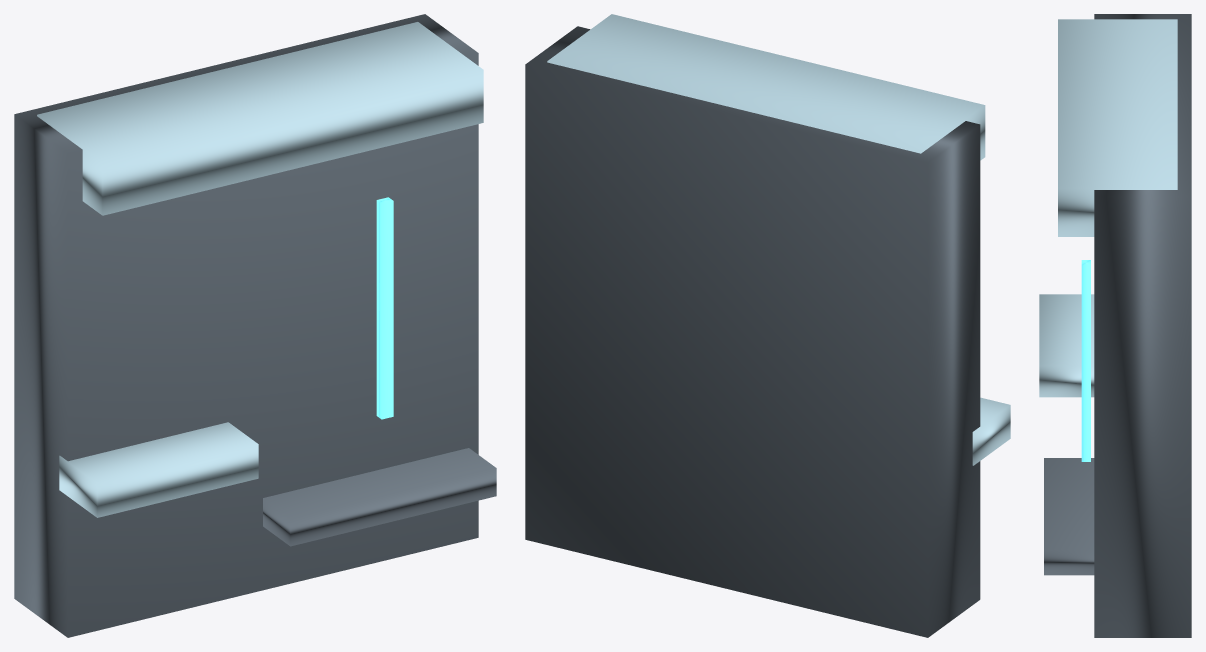
The model's file is ice-mine-frost-wall-lod1.glb.
The picture shows the model from 3 angles, left to right: view 1: azimuth 30°, elevation 25°; view 2: azimuth 150°, elevation 25°; view 3: azimuth 270°, elevation 25°; orthographic projection. The views are drawn at different scales.
Parts seen in each view (by area): view 1: ice-mine-frost-wall-rock, ice-mine-frost-wall-cap, ice-mine-frost-wall-strata, ice-mine-frost-wall-ledge, ice-mine-frost-wall-seam; view 2: ice-mine-frost-wall-rock, ice-mine-frost-wall-cap, ice-mine-frost-wall-ledge; view 3: ice-mine-frost-wall-rock, ice-mine-frost-wall-cap, ice-mine-frost-wall-strata, ice-mine-frost-wall-ledge, ice-mine-frost-wall-seam.
Boxes of the visible parts, box(x1,y1,x2,y2) form: ice-mine-frost-wall-rock: box(14, 14, 478, 637); ice-mine-frost-wall-cap: box(37, 22, 483, 215); ice-mine-frost-wall-strata: box(263, 448, 496, 546); ice-mine-frost-wall-ledge: box(59, 422, 258, 517); ice-mine-frost-wall-seam: box(376, 197, 393, 419); ice-mine-frost-wall-rock: box(525, 26, 980, 637); ice-mine-frost-wall-cap: box(547, 14, 985, 160); ice-mine-frost-wall-ledge: box(972, 397, 1010, 465); ice-mine-frost-wall-rock: box(1094, 14, 1191, 637); ice-mine-frost-wall-cap: box(1058, 19, 1177, 236); ice-mine-frost-wall-strata: box(1044, 458, 1094, 575); ice-mine-frost-wall-ledge: box(1039, 294, 1094, 397); ice-mine-frost-wall-seam: box(1081, 260, 1090, 461).
Size of the model in its own units: 2.75 by 3.11 by 0.97.
